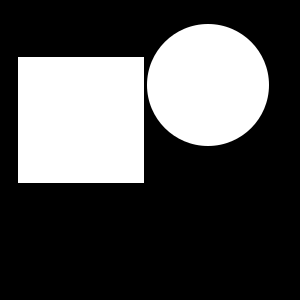circle: (18, 57, 144, 183)
rectangle: (147, 24, 269, 146)
